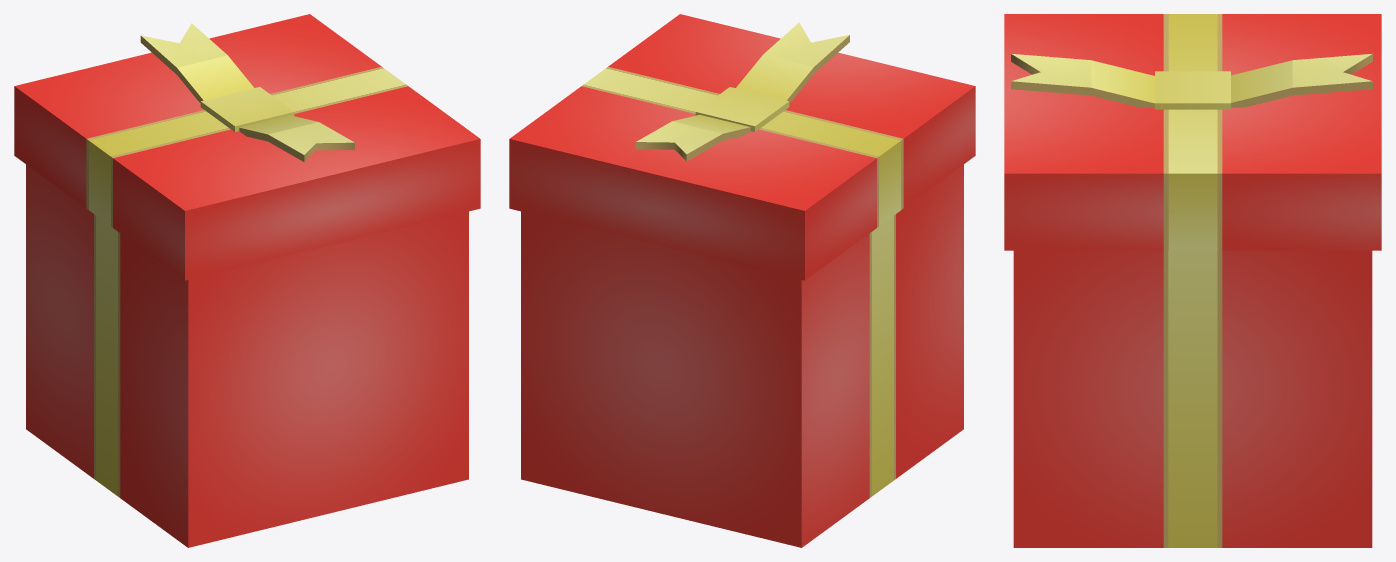
File: gift.fbx
3 views of the same model, side by side, from view 1: azimuth 30°, elevation 25°; view 2: azimuth 150°, elevation 25°; view 3: azimuth 270°, elevation 25° (orthographic). The views are drawn at different scales.
Parts seen in each view (by area): view 1: gift; view 2: gift; view 3: gift.
Boxes of the visible parts, bbox=[...] form: gift: bbox=[14, 14, 480, 547]; gift: bbox=[509, 14, 975, 547]; gift: bbox=[1004, 14, 1381, 547].
Bounding box in the file's own units: 4.62 × 5.47 × 4.62.
1 material, 1 textured.
